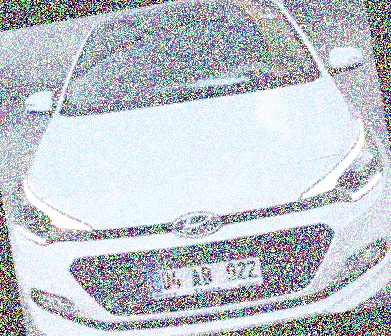plaka: (159, 255, 263, 296)
